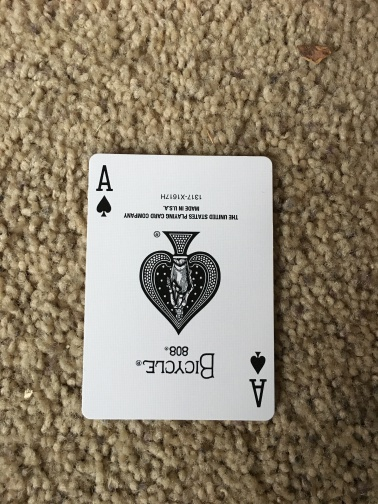ace: (82, 152, 277, 422)
